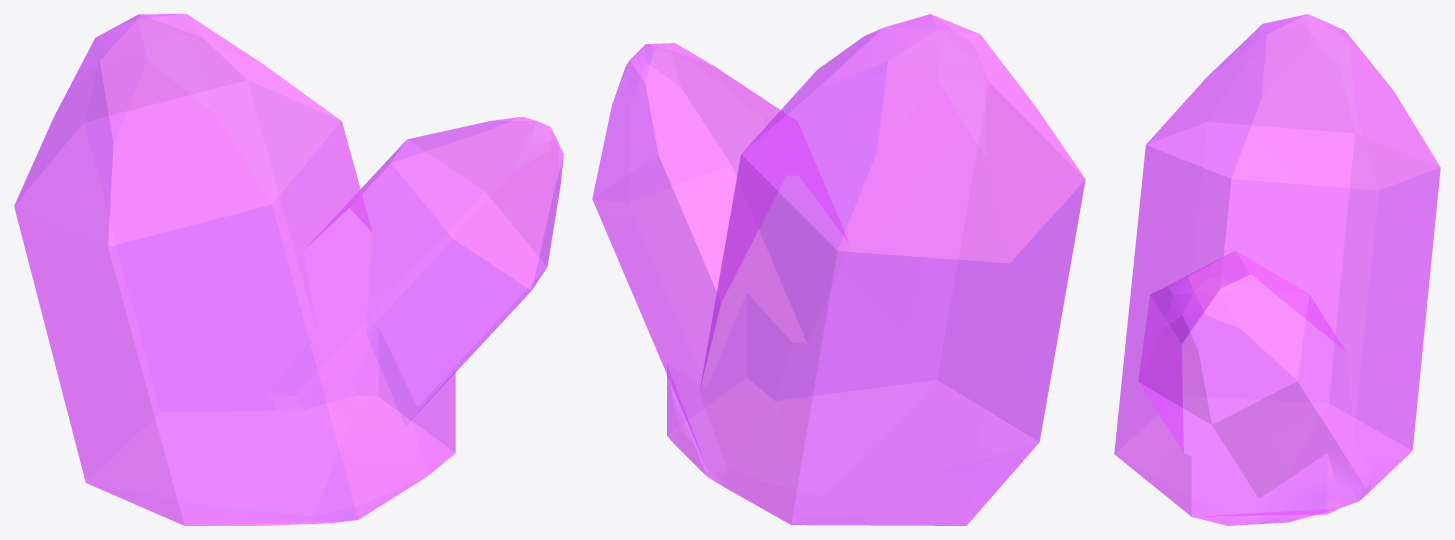
Rendered from crystal.fbx.
The picture shows the model from 3 angles, left to right: view 1: azimuth 30°, elevation 25°; view 2: azimuth 150°, elevation 25°; view 3: azimuth 270°, elevation 25°; orthographic projection. The views are drawn at different scales.
Parts seen in each view (by area): view 1: Rock candy twin shard; view 2: Rock candy twin shard; view 3: Rock candy twin shard.
Part boxes in pixels (left/top/right/bottom): Rock candy twin shard: left=14, top=14, right=563, bottom=525; Rock candy twin shard: left=592, top=14, right=1085, bottom=525; Rock candy twin shard: left=1114, top=14, right=1440, bottom=525.
Size of the model in its own units: 312 by 333 by 219.
